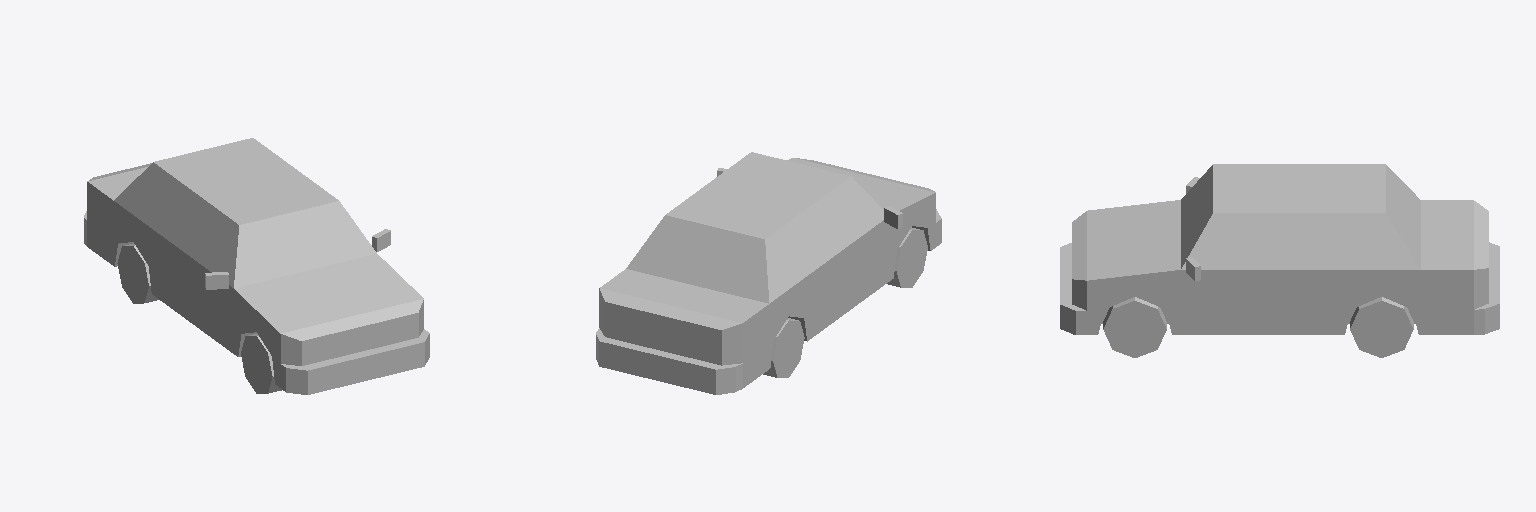
File: sedan_01_white.obj
3 views of the same model, side by side, from view 1: azimuth 30°, elevation 25°; view 2: azimuth 150°, elevation 25°; view 3: azimuth 270°, elevation 25° (orthographic).
Visible parts, largest first — view 1: Sedan_01_Default, Wheel_RR, Wheel_FR; view 2: Sedan_01_Default, Wheel_FR, Wheel_RR; view 3: Sedan_01_Default, Wheel_FL, Wheel_RL.
Part boxes in pixels (bbox=[...]): Sedan_01_Default: bbox=[84, 138, 429, 394]; Wheel_RR: bbox=[117, 243, 158, 303]; Wheel_FR: bbox=[241, 334, 281, 393]; Sedan_01_Default: bbox=[596, 152, 941, 394]; Wheel_FR: bbox=[887, 227, 927, 287]; Wheel_RR: bbox=[763, 318, 804, 377]; Sedan_01_Default: bbox=[1060, 164, 1499, 334]; Wheel_FL: bbox=[1103, 297, 1166, 357]; Wheel_RL: bbox=[1350, 297, 1413, 357].
Bounding box in the file's own units: 0.9785 × 0.6816 × 2.02.